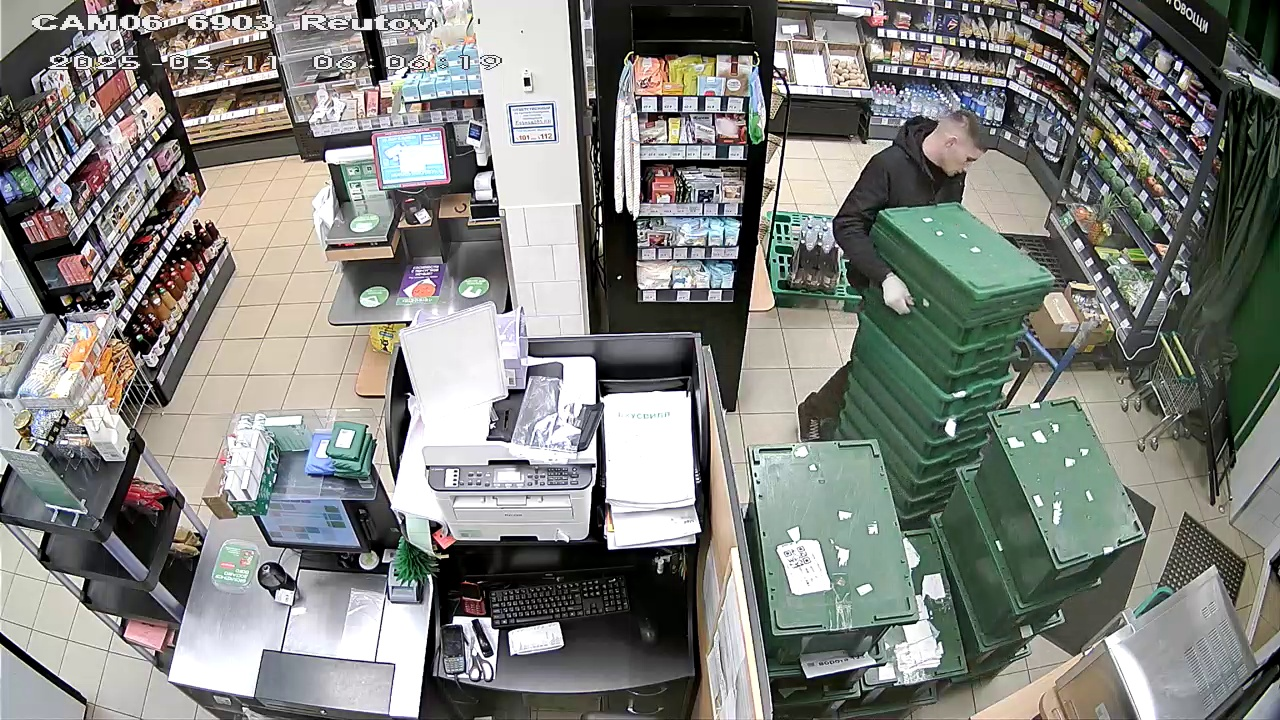Human: (825, 98, 985, 324)
pallet: (993, 232, 1113, 351)
